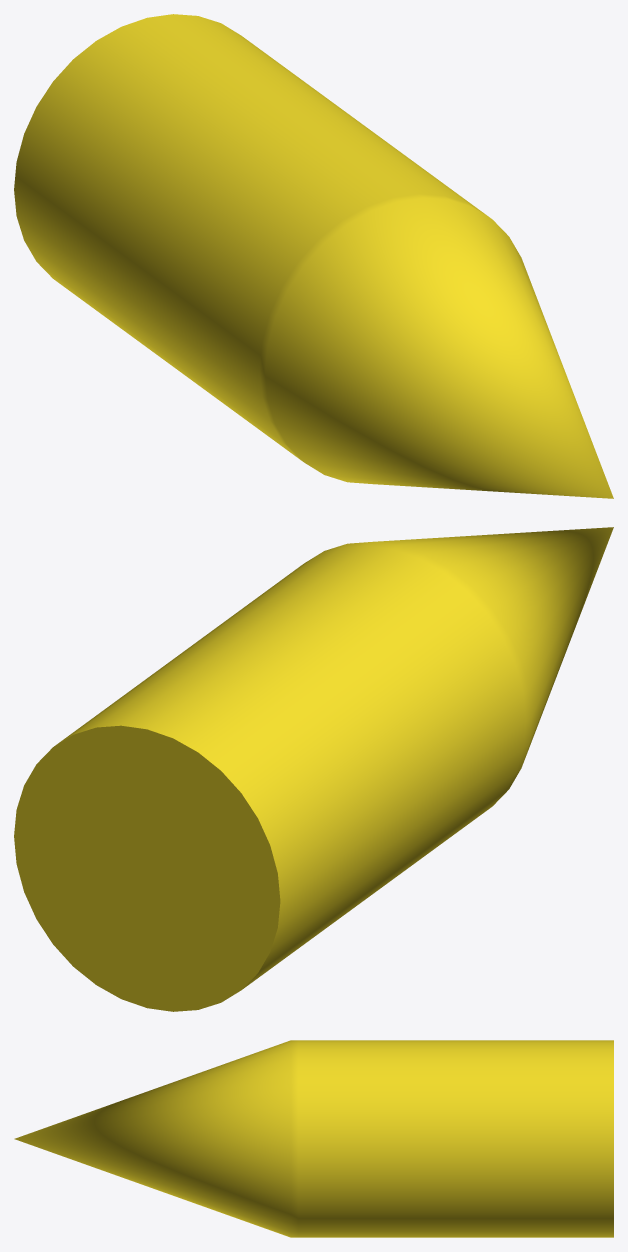
Rendered from playerbullet.obj.
3 renders of one model, top to bottom at view 1: azimuth 30°, elevation 25°; view 2: azimuth 150°, elevation 25°; view 3: azimuth 270°, elevation 25°, orthographic. The views are drawn at different scales.
Visible parts, largest first — view 1: 円柱; view 2: 円柱; view 3: 円柱.
Boxes of the visible parts, x1,y1,x2,y2 form: 円柱: (14,14,613,498); 円柱: (14,527,613,1011); 円柱: (14,1040,613,1237).
Size of the model in its own units: 0.3665 by 0.3665 by 1.11.
Materials: 1 (1 with a texture image).
